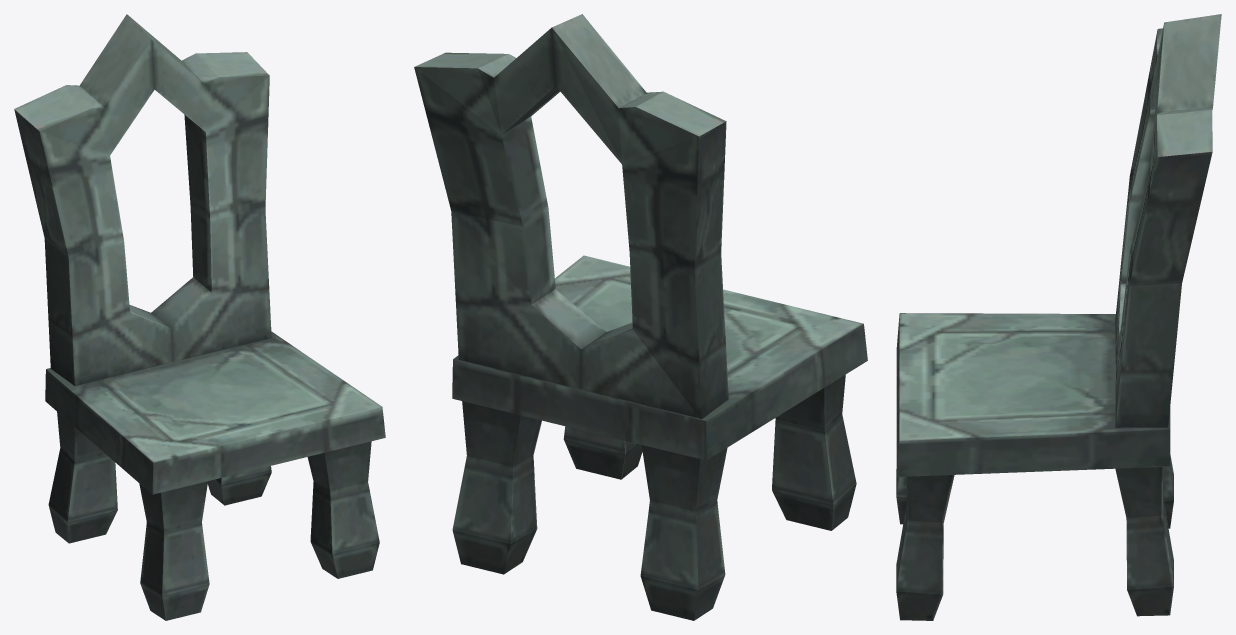
Rendered from crypt_chair02.fbx.
3 renders of one model, left to right at view 1: azimuth 30°, elevation 25°; view 2: azimuth 150°, elevation 25°; view 3: azimuth 270°, elevation 25°, orthographic. The views are drawn at different scales.
Visible parts, largest first — view 1: obj0.007; view 2: obj0.007; view 3: obj0.007.
Boxes of the visible parts, box(x1,y1,x2,y2) form: obj0.007: box(14, 14, 385, 620); obj0.007: box(414, 14, 867, 620); obj0.007: box(896, 14, 1221, 620).
Bounding box in the file's own units: 0.9633 × 1.89 × 1.02.
